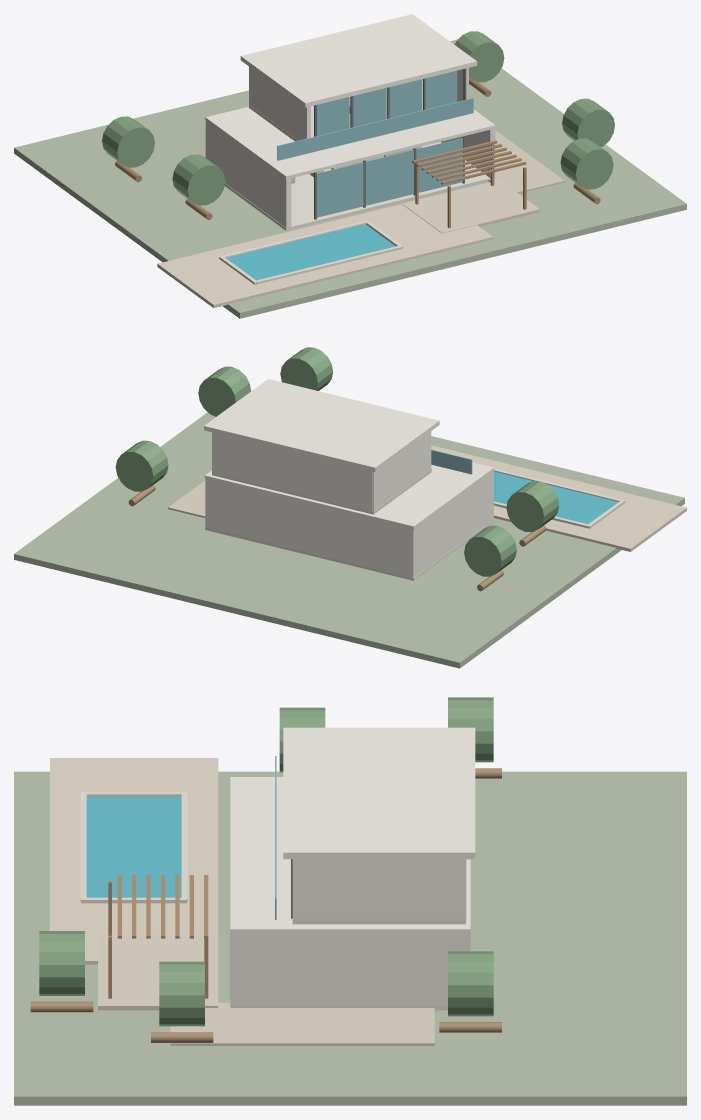
Rendered from aster-test-villa 2.glb.
3 renders of one model, top to bottom at view 1: azimuth 30°, elevation 25°; view 2: azimuth 150°, elevation 25°; view 3: azimuth 270°, elevation 25°, orthographic. The views are drawn at different scales.
Visible parts, largest first — view 1: terrain, cantilever_roof, pool_terrace, ground_floor_ceiling, pool_water, side_wall, terrace, balcony_glass, villa_ground_floor, upper_side, glazed_panel_1, glazed_panel (+14 smaller); view 2: terrain, cantilever_roof, rear_wall, upper_rear, pool_terrace, ground_floor_ceiling, side_wall, upper_side, pool_water, tree_crown_2, tree_crown_0, tree_crown_1 (+6 smaller); view 3: terrain, cantilever_roof, pool_terrace, side_wall_1, ground_floor_ceiling, upper_side_1, pool_water, entry_path, terrace, tree_crown_2, tree_crown_3, tree_crown_4 (+8 smaller).
Part boxes in pixels (box(x1,y1,x2,y2)): terrain: box(14, 39, 686, 318); cantilever_roof: box(240, 14, 477, 107); pool_terrace: box(157, 204, 493, 307); ground_floor_ceiling: box(205, 106, 495, 179); pool_water: box(226, 224, 395, 280); side_wall: box(205, 121, 291, 227); terrace: box(402, 180, 539, 233); balcony_glass: box(277, 98, 473, 160); villa_ground_floor: box(224, 142, 495, 230); upper_side: box(249, 66, 310, 140); glazed_panel_1: box(366, 150, 413, 205); glazed_panel: box(317, 162, 363, 217); terrain: box(14, 412, 684, 668); cantilever_roof: box(204, 379, 439, 471); rear_wall: box(208, 480, 409, 576); upper_rear: box(212, 432, 372, 512); pool_terrace: box(431, 445, 686, 551); ground_floor_ceiling: box(205, 462, 494, 529); side_wall: box(408, 471, 493, 578); upper_side: box(373, 431, 431, 511); pool_water: box(494, 471, 618, 524); tree_crown_2: box(115, 440, 168, 491); tree_crown_0: box(464, 525, 516, 576); tree_crown_1: box(506, 481, 559, 531); terrain: box(14, 771, 686, 1105); cantilever_roof: box(283, 727, 475, 859); pool_terrace: box(50, 758, 218, 964); side_wall_1: box(230, 934, 470, 1006); ground_floor_ceiling: box(230, 777, 470, 933); upper_side_1: box(292, 859, 465, 919); pool_water: box(86, 797, 181, 897); entry_path: box(170, 1002, 434, 1045); terrace: box(98, 935, 218, 1010); tree_crown_2: box(448, 951, 493, 1016); tree_crown_3: box(159, 961, 204, 1026); tree_crown_4: box(39, 931, 84, 995).
Size of the model in its own units: 33 by 7.62 by 28.
